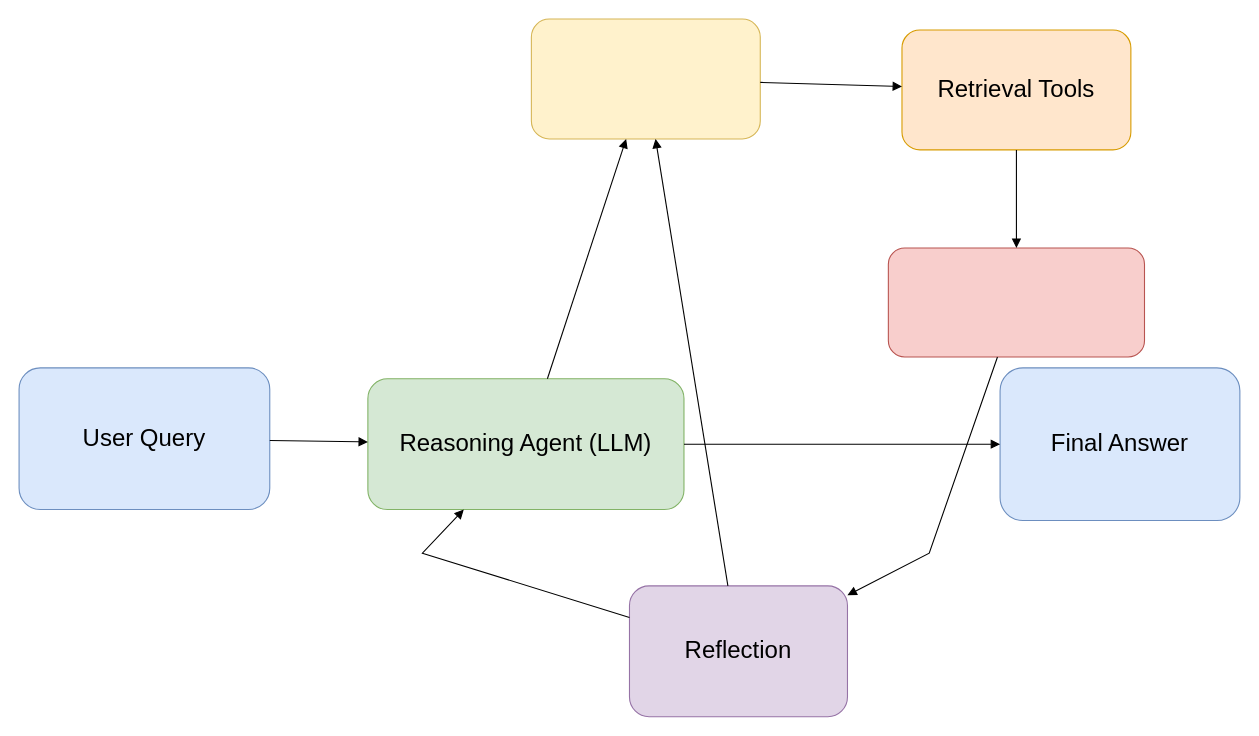
This 1259x736 diagram has some shape labels left out. The box of each missing label's shape, as (x1, y1, x2, y2) in pixels:
Knowledge Sources: (887, 247, 1144, 357)
Planning: (530, 18, 760, 139)
